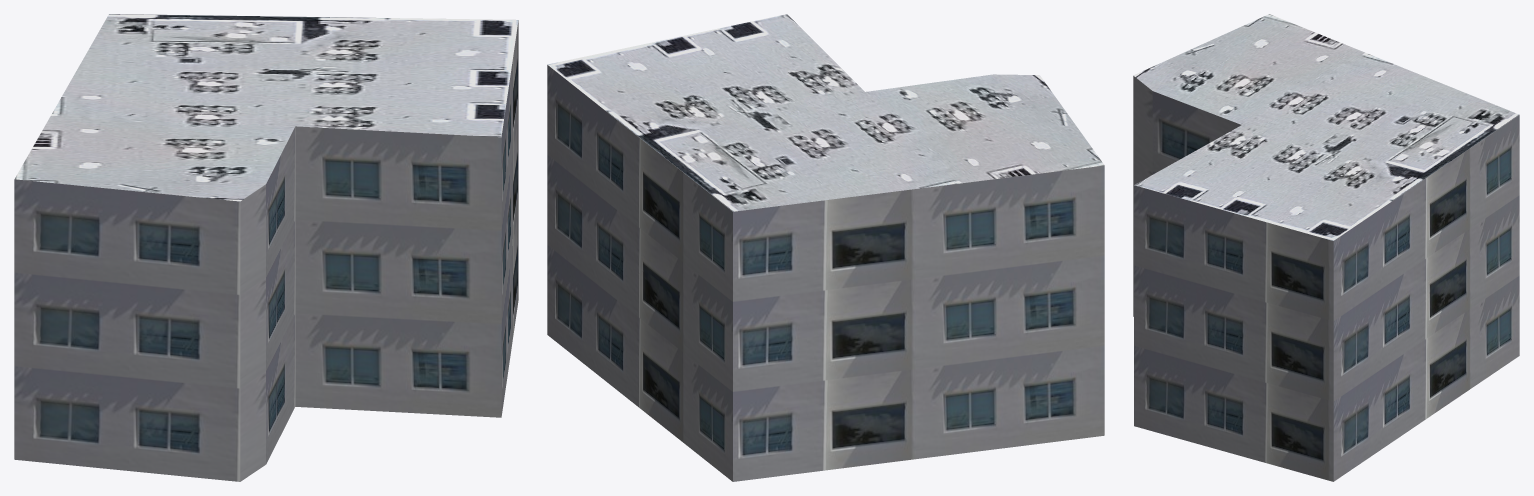
Rendered from ResTex__3293.fbx.
The picture shows the model from 3 angles, left to right: view 1: azimuth 30°, elevation 25°; view 2: azimuth 150°, elevation 25°; view 3: azimuth 270°, elevation 25°; orthographic projection. The views are drawn at different scales.
Visible parts, largest first — view 1: CityEngineMaterial_10_m, CityEngineMaterial_4_m; view 2: CityEngineMaterial_10_m, CityEngineMaterial_4_m; view 3: CityEngineMaterial_10_m, CityEngineMaterial_4_m.
Part boxes in pixels (bbox=[...]): CityEngineMaterial_10_m: bbox=[14, 20, 518, 481]; CityEngineMaterial_4_m: bbox=[15, 14, 518, 201]; CityEngineMaterial_10_m: bbox=[547, 65, 1104, 481]; CityEngineMaterial_4_m: bbox=[547, 14, 1104, 211]; CityEngineMaterial_10_m: bbox=[1133, 76, 1519, 481]; CityEngineMaterial_4_m: bbox=[1133, 14, 1519, 240].
Bounding box in the file's own units: 18.18 × 9 × 13.09.
Materials: 2 (2 with a texture image).
